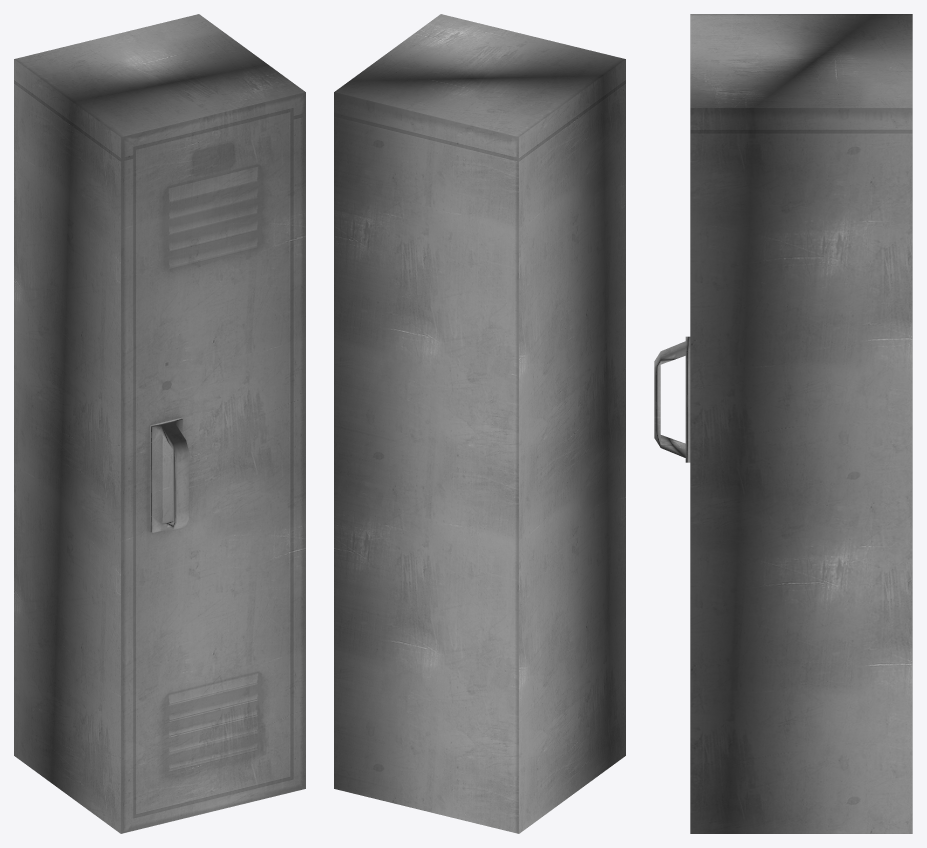
Rendered from metal_locker.obj.
3 renders of one model, left to right at view 1: azimuth 30°, elevation 25°; view 2: azimuth 150°, elevation 25°; view 3: azimuth 270°, elevation 25°, orthographic. The views are drawn at different scales.
Parts seen in each view (by area): view 1: obj1; view 2: obj1; view 3: obj1.
Part boxes in pixels (x1,y1,x2,y2): obj1: (14,14,305,833); obj1: (334,14,625,833); obj1: (654,14,912,833).
Bounding box in the file's own units: 0.5 × 1.8 × 0.581.
1 material, 1 textured.
